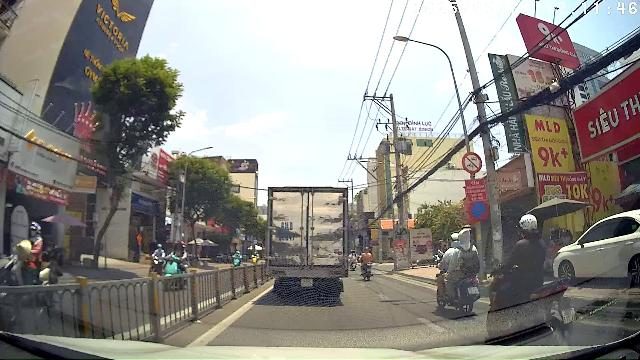131a-cam-do-xe: (468, 200, 489, 221)
